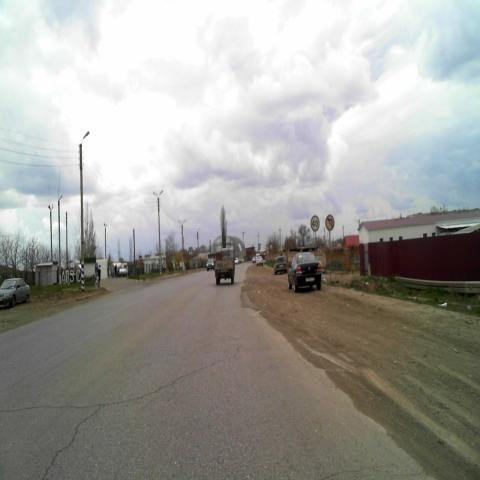3_18_2: (325, 214, 335, 230)
